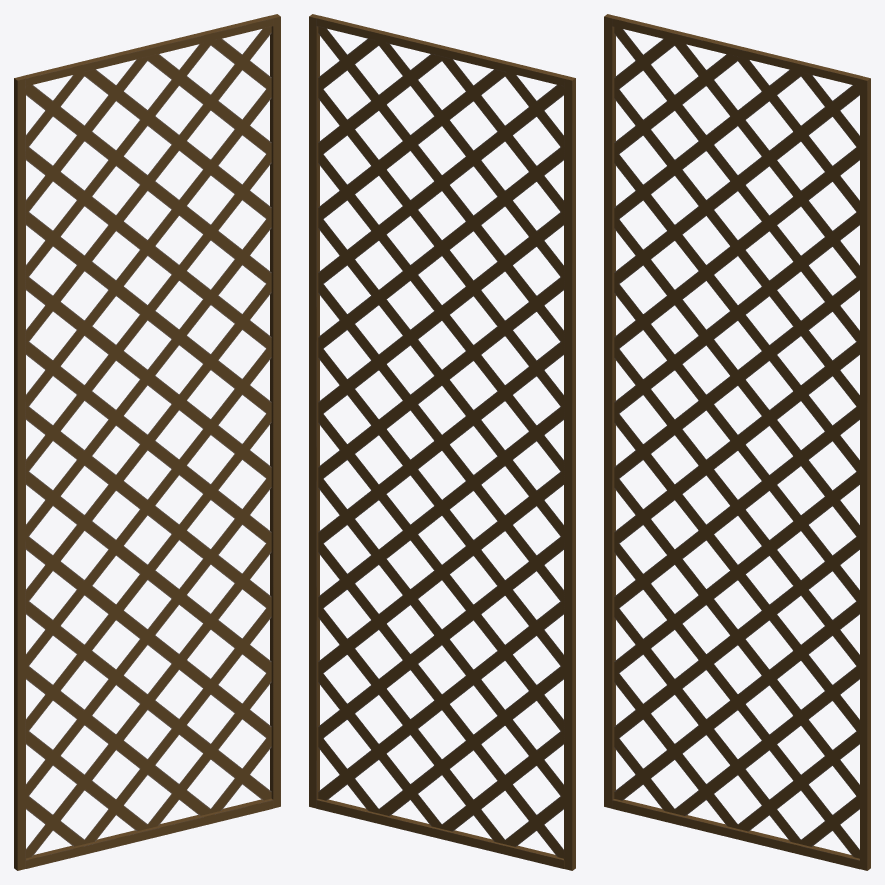
The model's file is SM_Trellis_01.glb.
The picture shows the model from 3 angles, left to right: view 1: azimuth 30°, elevation 25°; view 2: azimuth 150°, elevation 25°; view 3: azimuth 330°, elevation 25°; orthographic projection.
Visible parts, largest first — view 1: SM_Trellis_01; view 2: SM_Trellis_01; view 3: SM_Trellis_01.
Part boxes in pixels (x1,y1,x2,y2): SM_Trellis_01: [14, 14, 280, 870]; SM_Trellis_01: [309, 14, 575, 870]; SM_Trellis_01: [604, 14, 870, 870].
Bounding box in the file's own units: 1.05 × 3 × 0.0243.
1 material, 1 textured.
